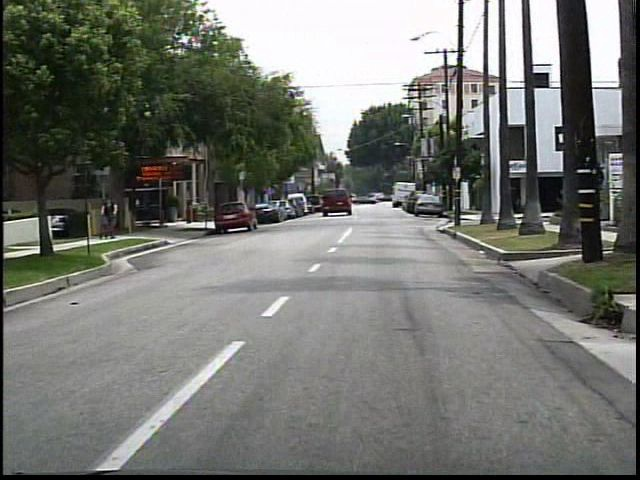person: (95, 193, 121, 242)
